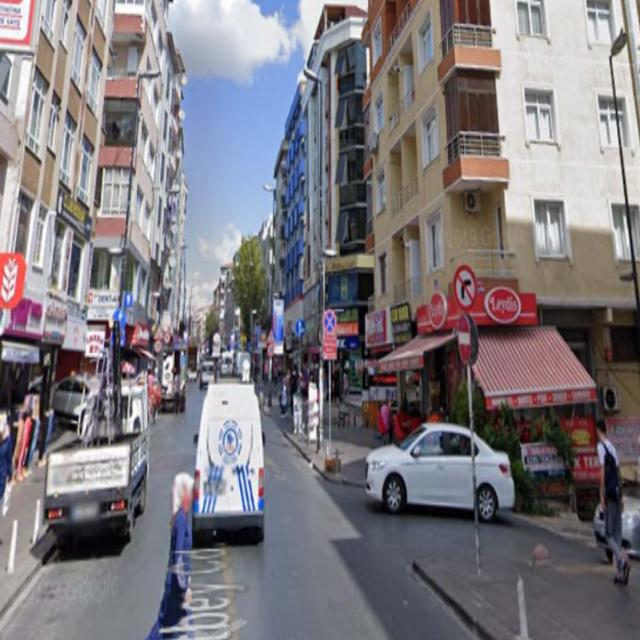girisyok: (456, 316, 474, 366)
ilerisag: (295, 318, 305, 340)
sagadonulmez: (455, 266, 476, 310)
